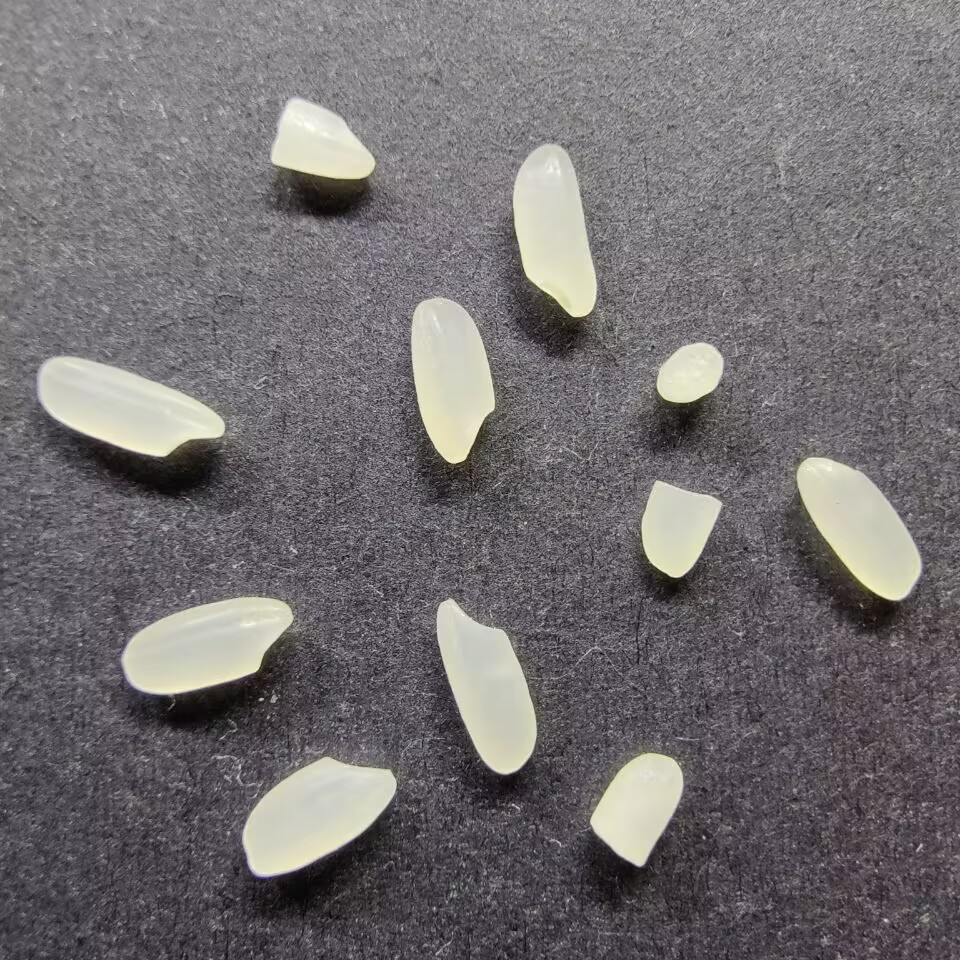broken: (589, 750, 684, 871), (268, 96, 377, 182), (642, 477, 722, 579), (653, 341, 725, 406)
rice: (36, 353, 225, 459), (241, 754, 396, 878), (794, 455, 923, 602), (436, 598, 540, 775), (120, 596, 295, 696), (510, 143, 598, 319), (408, 296, 497, 464)
